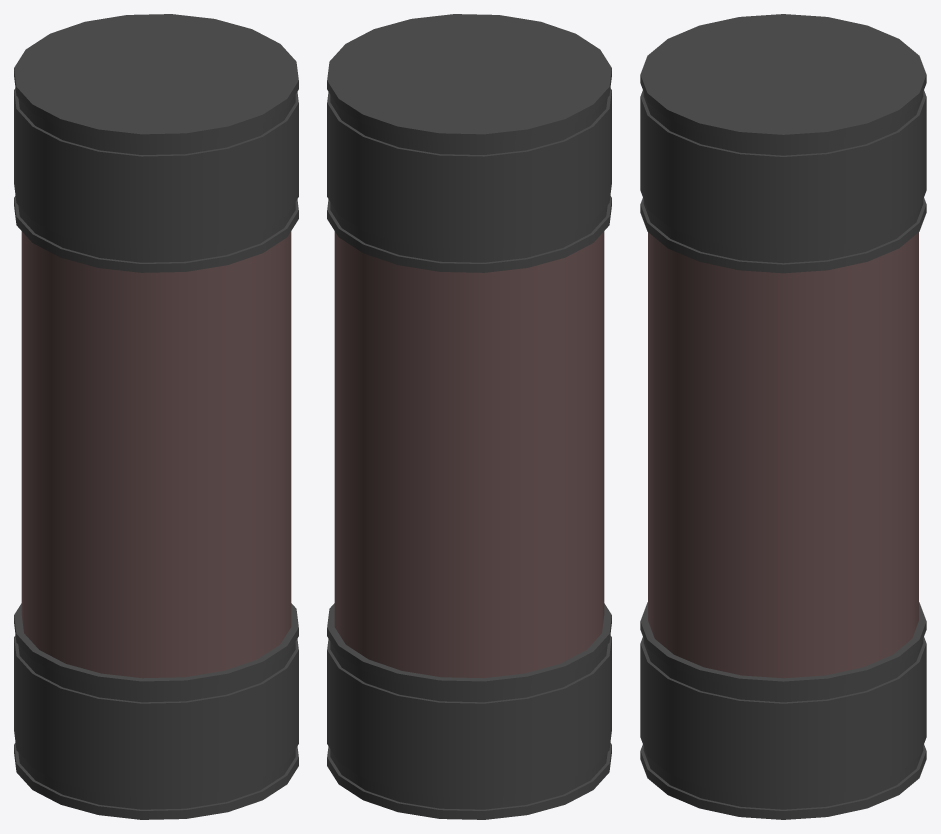
Rendered from dna.fbx.
The picture shows the model from 3 angles, left to right: view 1: azimuth 30°, elevation 25°; view 2: azimuth 150°, elevation 25°; view 3: azimuth 270°, elevation 25°; orthographic projection.
Parts seen in each view (by area): view 1: T_Virus_Glass, T_Virus_MetalPlates; view 2: T_Virus_Glass, T_Virus_MetalPlates; view 3: T_Virus_Glass, T_Virus_MetalPlates.
Boxes of the visible parts, left/top/right/bottom form: T_Virus_Glass: left=21, top=231, right=291, bottom=678; T_Virus_MetalPlates: left=14, top=14, right=298, bottom=819; T_Virus_Glass: left=334, top=231, right=604, bottom=678; T_Virus_MetalPlates: left=327, top=14, right=611, bottom=819; T_Virus_Glass: left=648, top=232, right=918, bottom=678; T_Virus_MetalPlates: left=640, top=14, right=926, bottom=819.
Bounding box in the file's own units: 183 × 484 × 183.
